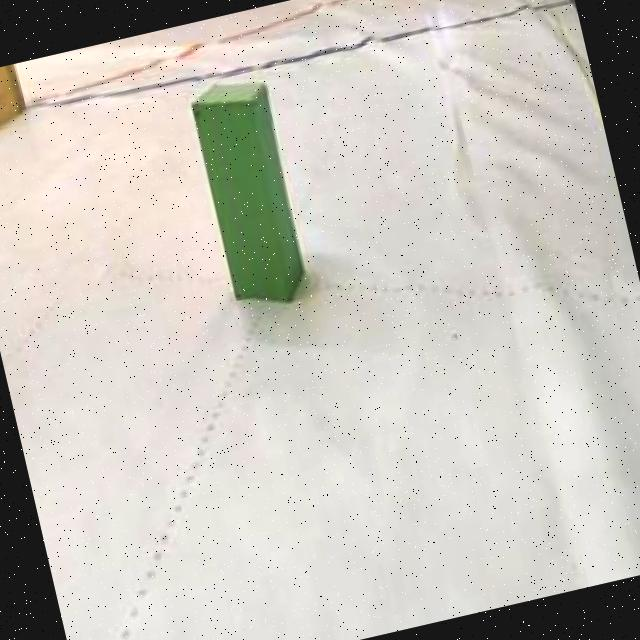greenbox: (184, 70, 316, 314)
